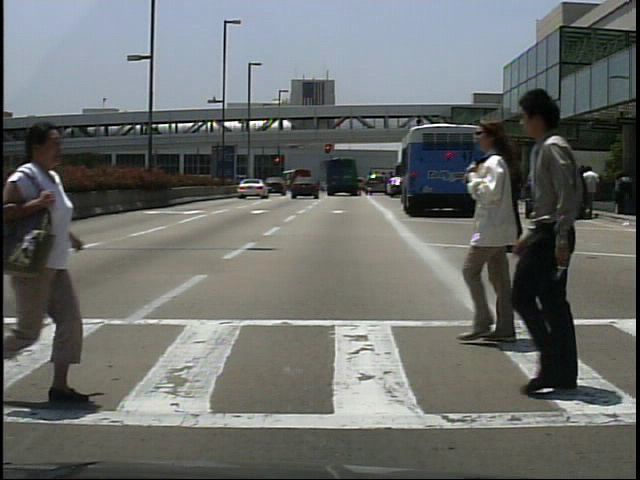person: (504, 78, 627, 396), (10, 119, 110, 408), (438, 117, 540, 356), (582, 167, 602, 218), (485, 162, 502, 215), (506, 166, 524, 216)
